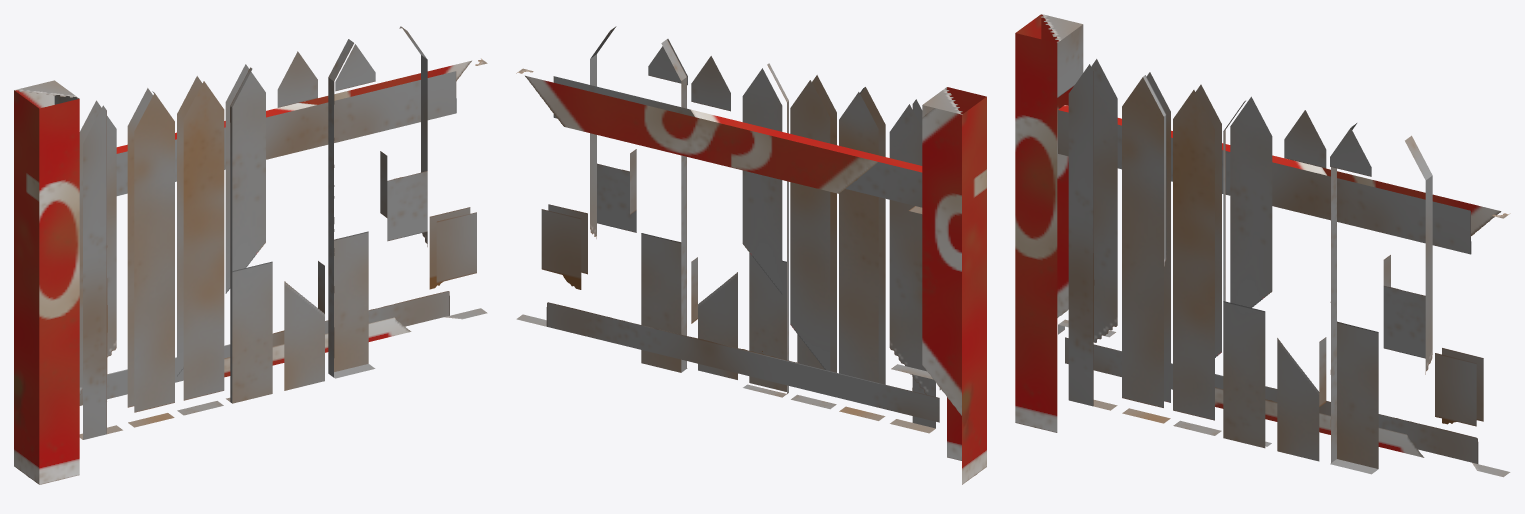
Rendered from fence_001_left.fbx.
The picture shows the model from 3 angles, left to right: view 1: azimuth 30°, elevation 25°; view 2: azimuth 150°, elevation 25°; view 3: azimuth 330°, elevation 25°; orthographic projection. The views are drawn at different scales.
Visible parts, largest first — view 1: Cube; view 2: Cube; view 3: Cube.
Boxes of the visible parts, box(x1,y1,x2,y2) form: Cube: box(14, 26, 487, 484); Cube: box(516, 26, 986, 484); Cube: box(1015, 14, 1510, 477).
Bounding box in the file's own units: 3.39 × 2.76 × 0.3209.
